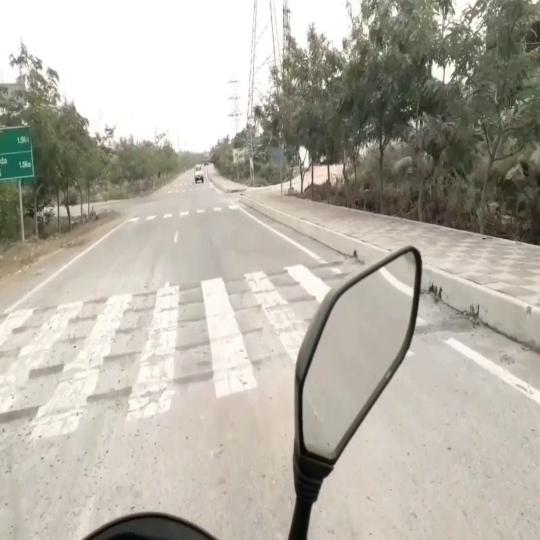Speed Bump: (0, 347, 294, 437), (0, 318, 302, 385), (0, 251, 303, 288), (0, 280, 300, 298), (0, 299, 299, 317)
